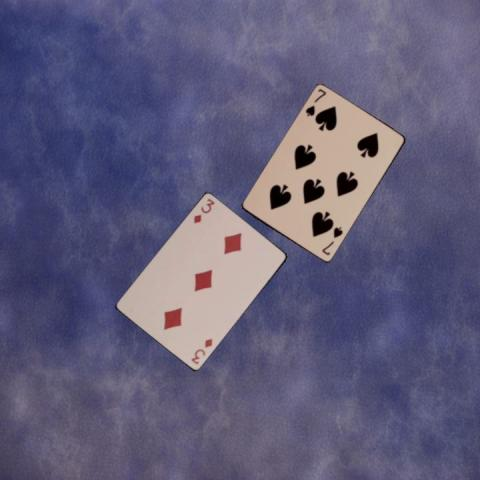3d: (188, 336, 214, 366), (191, 195, 216, 225)
7s: (319, 224, 344, 257), (302, 86, 327, 118)
